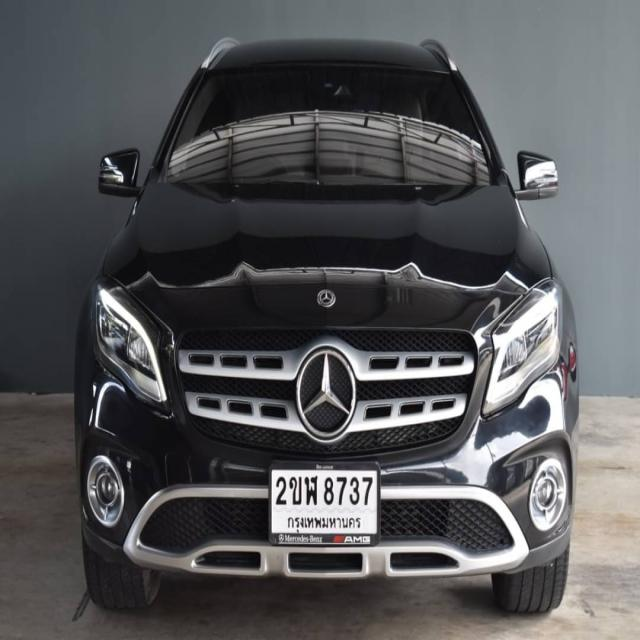license_plate: (268, 463, 382, 548)
